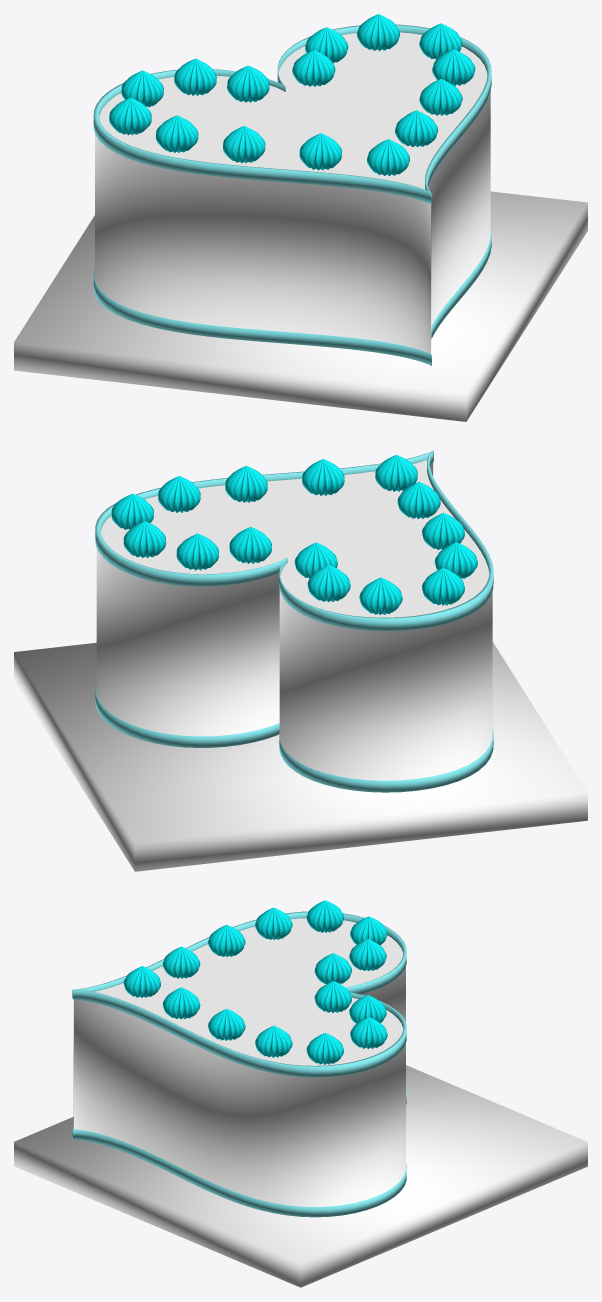
File: heart_vanilla_style1.glb
The picture shows the model from 3 angles, top to bottom: view 1: azimuth 30°, elevation 25°; view 2: azimuth 150°, elevation 25°; view 3: azimuth 270°, elevation 25°; orthographic projection. The views are drawn at different scales.
Parts seen in each view (by area): view 1: HeartCake, IcingStand, cakeTopcircle, IcingRing, IcingRing.001, design12, design9, design8, design11, design7, design5, design15 (+8 smaller); view 2: HeartCake, IcingStand, cakeTopcircle, IcingRing, IcingRing.001, design12, design10, design11, design7, design4, design6, design1 (+8 smaller); view 3: HeartCake, IcingStand, cakeTopcircle, IcingRing, IcingRing.001, design12, design9, design11, design7, design8, design4, design5 (+8 smaller).
Boxes of the visible parts, box(x1,y1,x2,y2) form: HeartCake: box(95, 92, 490, 353); IcingStand: box(14, 191, 587, 421); cakeTopcircle: box(99, 32, 487, 189); IcingRing: box(93, 24, 491, 204); IcingRing.001: box(93, 226, 491, 365); design12: box(109, 97, 151, 135); design9: box(156, 115, 198, 152); design8: box(223, 126, 265, 163); design11: box(174, 58, 216, 95); design7: box(299, 133, 341, 170); design5: box(419, 79, 462, 115); design15: box(357, 14, 399, 51); HeartCake: box(96, 462, 492, 780); IcingStand: box(14, 642, 587, 871); cakeTopcircle: box(100, 460, 489, 617); IcingRing: box(95, 450, 493, 630); IcingRing.001: box(95, 684, 493, 792); design12: box(422, 567, 464, 605); design10: box(359, 577, 402, 614); design11: box(307, 565, 350, 602); design7: box(397, 482, 440, 519); design4: box(158, 476, 200, 512); design6: box(302, 459, 344, 495); design1: box(229, 527, 271, 563); HeartCake: box(73, 966, 405, 1206); IcingStand: box(14, 1065, 587, 1287); cakeTopcircle: box(95, 918, 403, 1065); IcingRing: box(72, 911, 406, 1077); IcingRing.001: box(72, 1087, 406, 1217); design12: box(306, 900, 343, 932); design9: box(255, 907, 292, 939); design11: box(349, 939, 386, 971); design7: box(162, 946, 200, 978); design8: box(208, 925, 245, 957); design4: box(255, 1025, 292, 1057); design5: box(208, 1009, 245, 1040).
Bounding box in the file's own units: 4.24 × 1.63 × 4.24.
